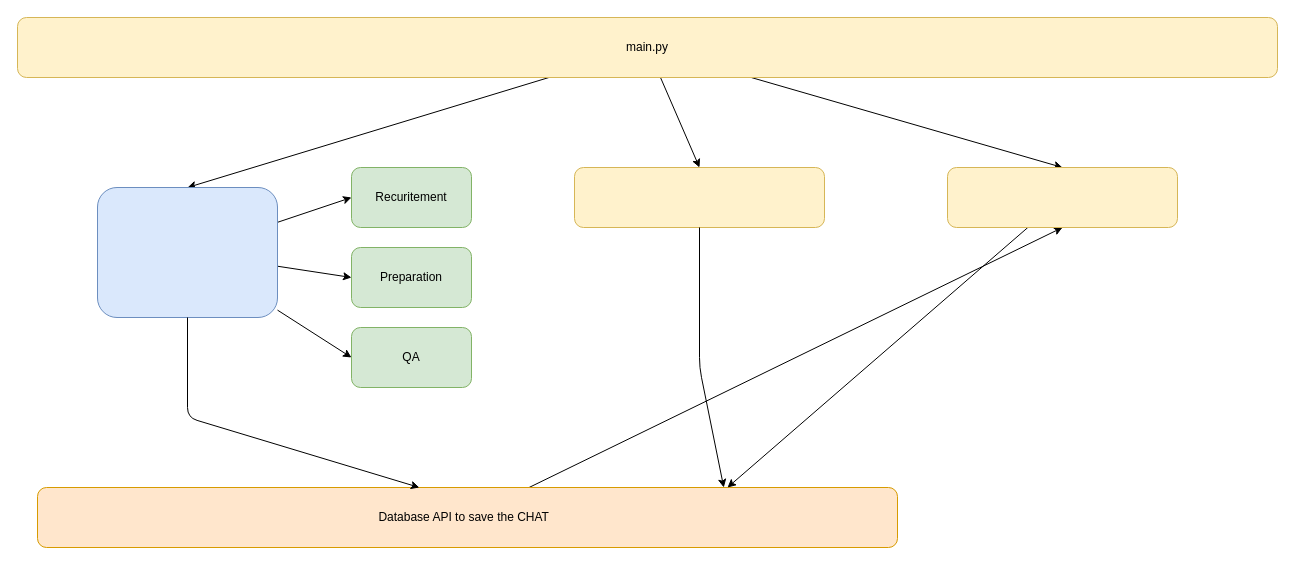
This 1295x565 diagram has some shape labels left out. Each missing label, with the centre of its shape:
"Loading Chat History" goes at point (699, 197).
"Session.py" goes at point (187, 252).
"Welcome Again Module" goes at point (1062, 197).
